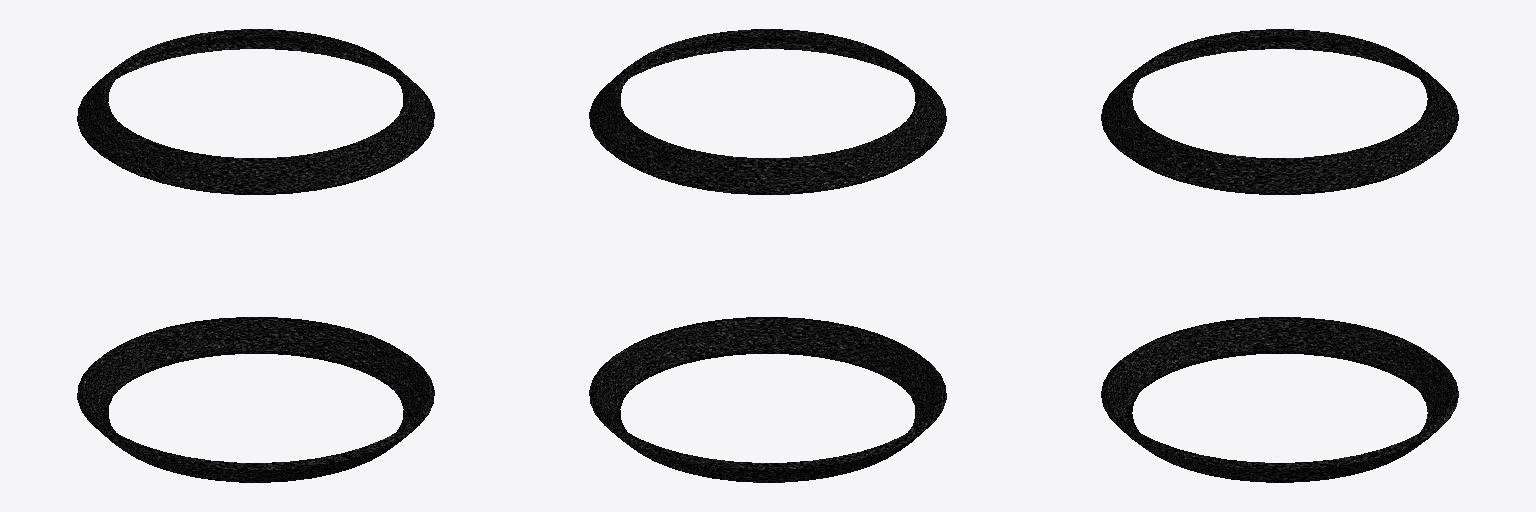
The picture shows the model from 3 angles: view 1: azimuth 30°, elevation 25°; view 2: azimuth 150°, elevation 25°; view 3: azimuth 270°, elevation 25°; orthographic projection.
Visible parts, largest first — view 1: sphere3:pSphere1; view 2: sphere3:pSphere1; view 3: sphere3:pSphere1.
Part boxes in pixels (x1,y1,x2,y2): sphere3:pSphere1: (77, 29, 434, 482); sphere3:pSphere1: (589, 29, 946, 482); sphere3:pSphere1: (1101, 29, 1458, 482).
Bounding box in the file's own units: 3.43 × 3.43 × 3.43.
1 materials, 1 textured.